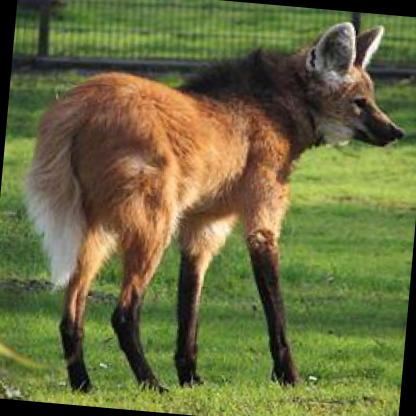dhole: (3, 0, 414, 416)
